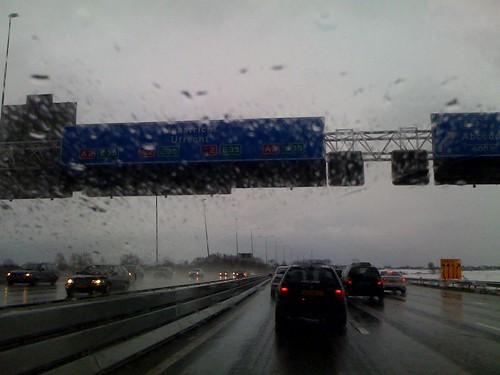car: (272, 260, 350, 333), (67, 264, 132, 296), (342, 261, 380, 303), (10, 261, 55, 288), (377, 270, 407, 294)
road: (1, 282, 500, 375)
sign: (57, 120, 324, 166), (424, 111, 500, 163)
sky: (1, 1, 492, 110), (9, 187, 500, 257)
